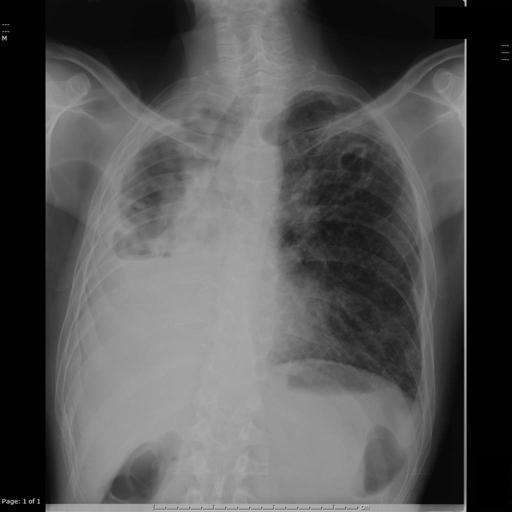TB: (97, 98, 214, 275), (294, 102, 374, 236)
